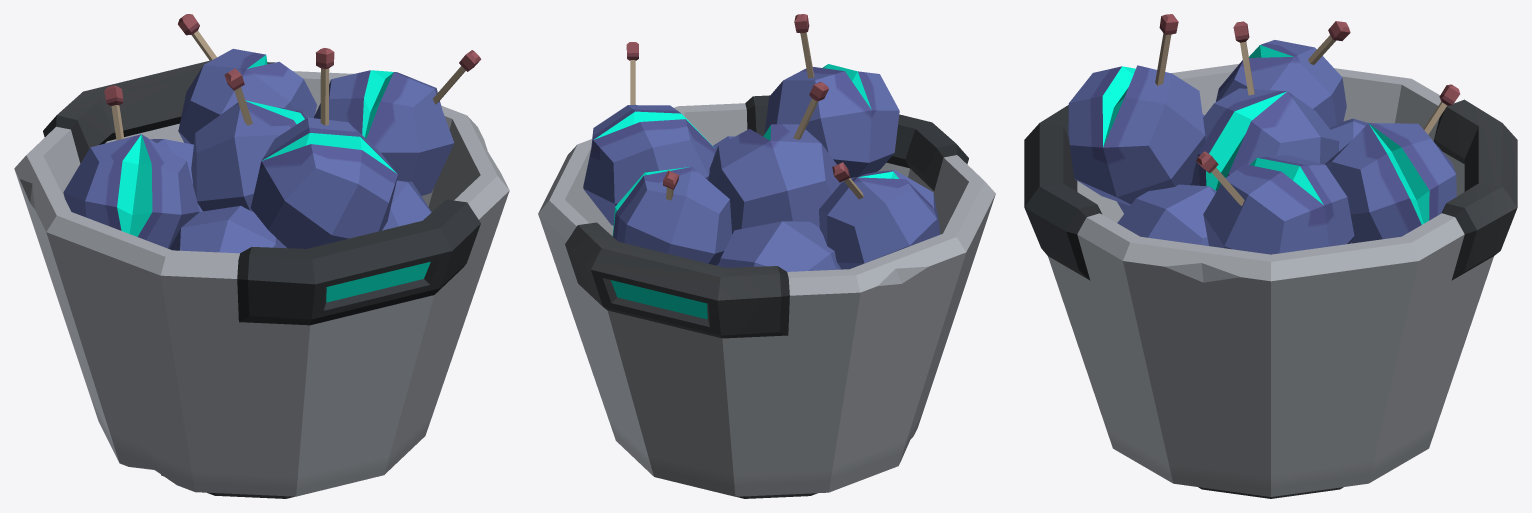
The model's file is SM_Prop_Food_Plates_02.fbx.
The picture shows the model from 3 angles, left to right: view 1: azimuth 30°, elevation 25°; view 2: azimuth 150°, elevation 25°; view 3: azimuth 270°, elevation 25°; orthographic projection. The views are drawn at different scales.
Visible parts, largest first — view 1: SM_Prop_Food_Plates_02; view 2: SM_Prop_Food_Plates_02; view 3: SM_Prop_Food_Plates_02.
Boxes of the visible parts, box(x1,y1,x2,y2) form: SM_Prop_Food_Plates_02: box(14, 14, 509, 498); SM_Prop_Food_Plates_02: box(538, 14, 995, 498); SM_Prop_Food_Plates_02: box(1024, 14, 1517, 498).
Size of the model in its own units: 35.66 by 34.43 by 34.92.
